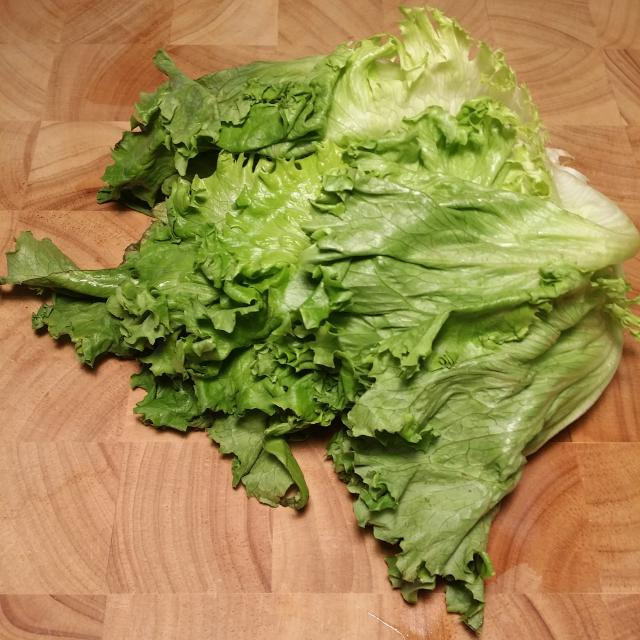Lettuce head: (78, 50, 618, 598)
